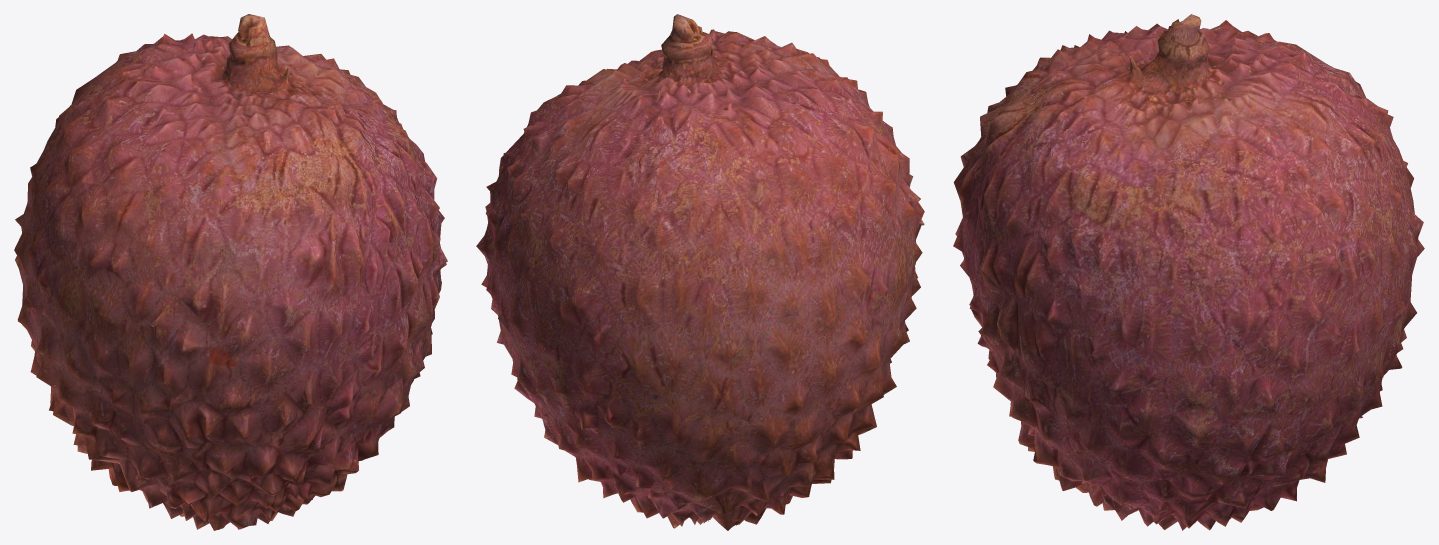
The model's file is lychee.glb.
The picture shows the model from 3 angles, left to right: view 1: azimuth 30°, elevation 25°; view 2: azimuth 150°, elevation 25°; view 3: azimuth 270°, elevation 25°; orthographic projection. The views are drawn at different scales.
Visible parts, largest first — view 1: food_lychee_01; view 2: food_lychee_01; view 3: food_lychee_01.
Boxes of the visible parts, x1,y1,x2,y2 form: food_lychee_01: (14, 14, 447, 530); food_lychee_01: (476, 14, 924, 530); food_lychee_01: (953, 14, 1424, 530).
Size of the model in its own units: 0.0409 by 0.0506 by 0.042.
Materials: 1 (1 with a texture image).
